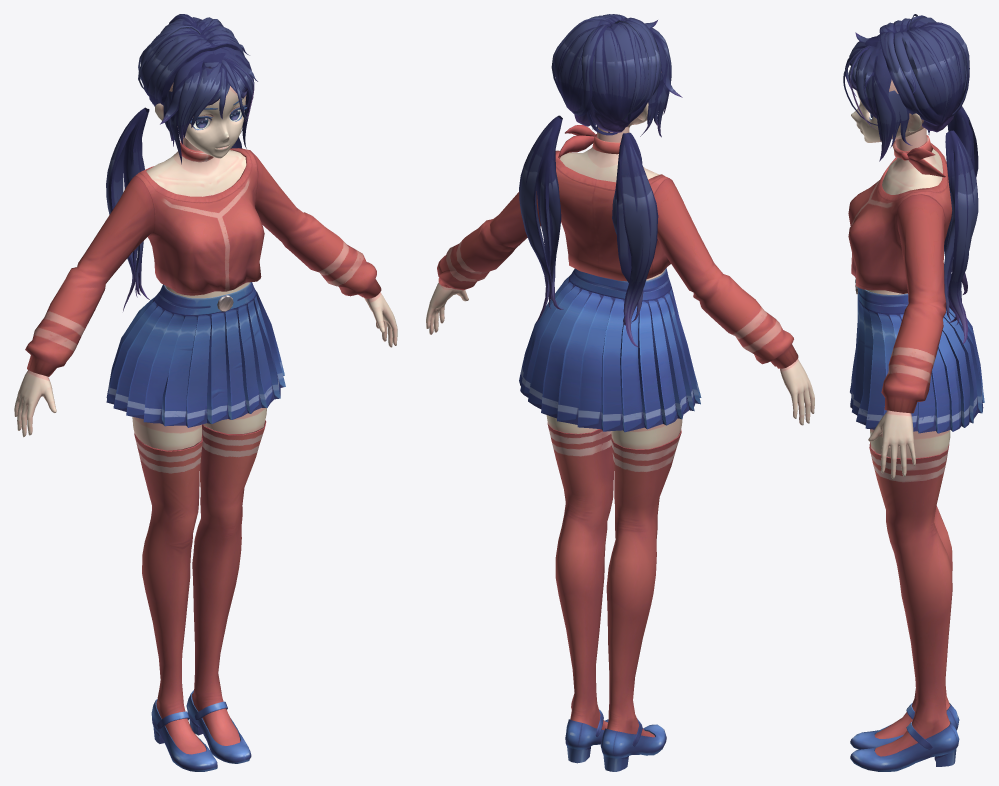
File: mta_miside.glb
3 renders of one model, left to right at view 1: azimuth 30°, elevation 25°; view 2: azimuth 150°, elevation 25°; view 3: azimuth 270°, elevation 25°, orthographic.
Visible parts, largest first — view 1: Sweater #36332, Pantyhose, Skirt, Hair, Body #36320.003, Shoes #36313.001, Head; view 2: Pantyhose, Hair, Skirt, Sweater #36332, Body #36320.003, Shoes #36313.001; view 3: Hair, Sweater #36332, Pantyhose, Skirt, Body #36320.003, Shoes #36313.001, Head.
Part boxes in pixels (left/top/right/bottom): Sweater #36332: left=25, top=140, right=381, bottom=376; Pantyhose: left=134, top=420, right=266, bottom=754; Skirt: left=106, top=282, right=285, bottom=427; Hair: left=106, top=14, right=257, bottom=311; Body #36320.003: left=14, top=136, right=397, bottom=450; Shoes #36313.001: left=151, top=690, right=251, bottom=771; Head: left=155, top=82, right=247, bottom=158; Pantyhose: left=547, top=423, right=681, bottom=737; Hair: left=519, top=14, right=682, bottom=347; Skirt: left=519, top=268, right=701, bottom=432; Sweater #36332: left=437, top=125, right=798, bottom=368; Body #36320.003: left=426, top=127, right=814, bottom=449; Shoes #36313.001: left=565, top=709, right=666, bottom=771; Hair: left=843, top=14, right=978, bottom=344; Sweater #36332: left=848, top=135, right=952, bottom=413; Pantyhose: left=869, top=442, right=952, bottom=756; Skirt: left=850, top=277, right=984, bottom=433; Body #36320.003: left=866, top=128, right=950, bottom=478; Shoes #36313.001: left=850, top=703, right=959, bottom=771; Head: left=851, top=79, right=923, bottom=142.
Size of the model in its own units: 0.9667 by 1.8 by 0.3148.
Materials: 7 (7 with a texture image).
